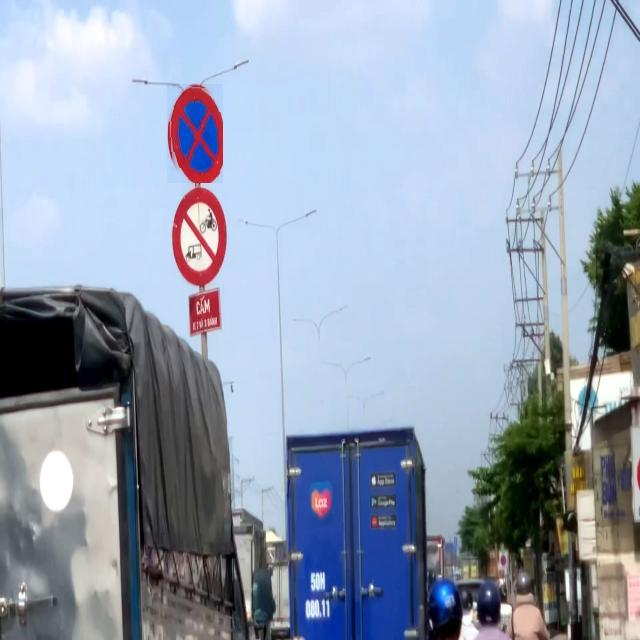P-130: (167, 84, 223, 183)
